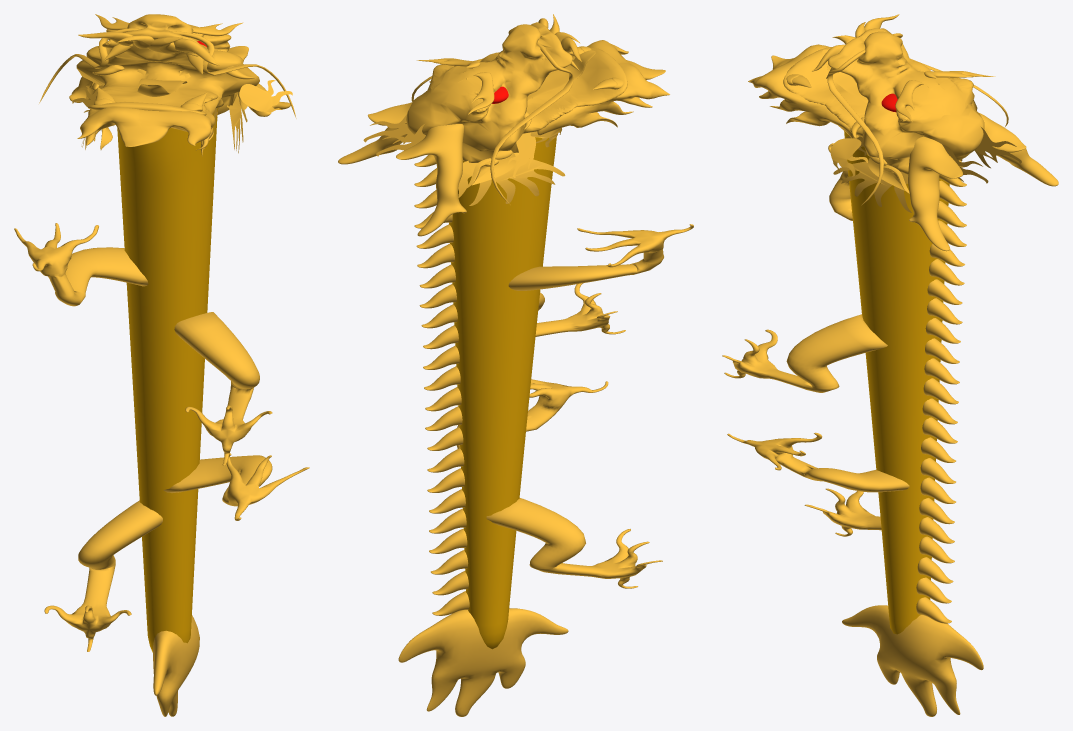
3 renders of one model, left to right at view 1: azimuth 30°, elevation 25°; view 2: azimuth 150°, elevation 25°; view 3: azimuth 270°, elevation 25°, orthographic. The views are drawn at different scales.
Visible parts, largest first — view 1: 龙; view 2: 龙; view 3: 龙.
Part boxes in pixels (x1,y1,x2,y2): 龙: (14,14,309,716); 龙: (338,14,693,716); 龙: (722,14,1058,716).
Bounding box in the file's own units: 374 × 817 × 376.
